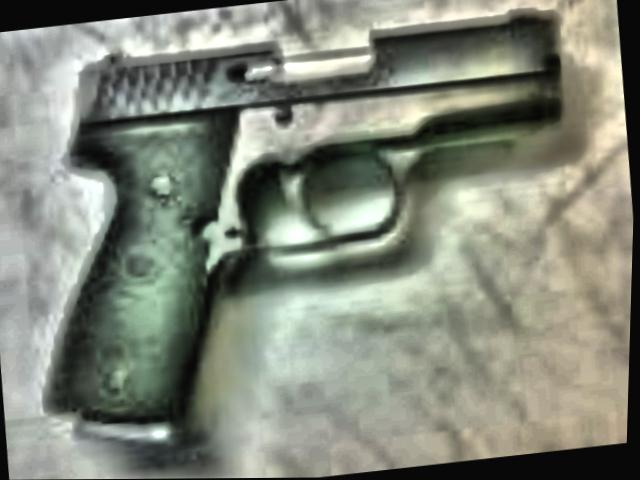pistol: (20, 0, 593, 447)
